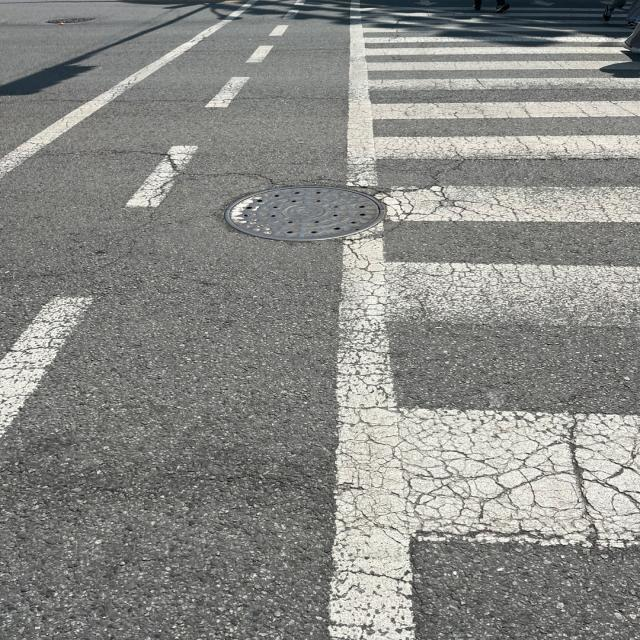Sewer Cover: (188, 173, 408, 268)
